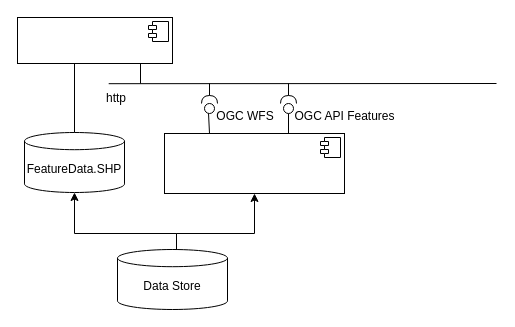
Some shapes in this 515 by 327 pixel diagram are drawn without their labels. Each missing label, with the centre of its shape:
Application: the point at 94,40
Feature Server: the point at 254,163
